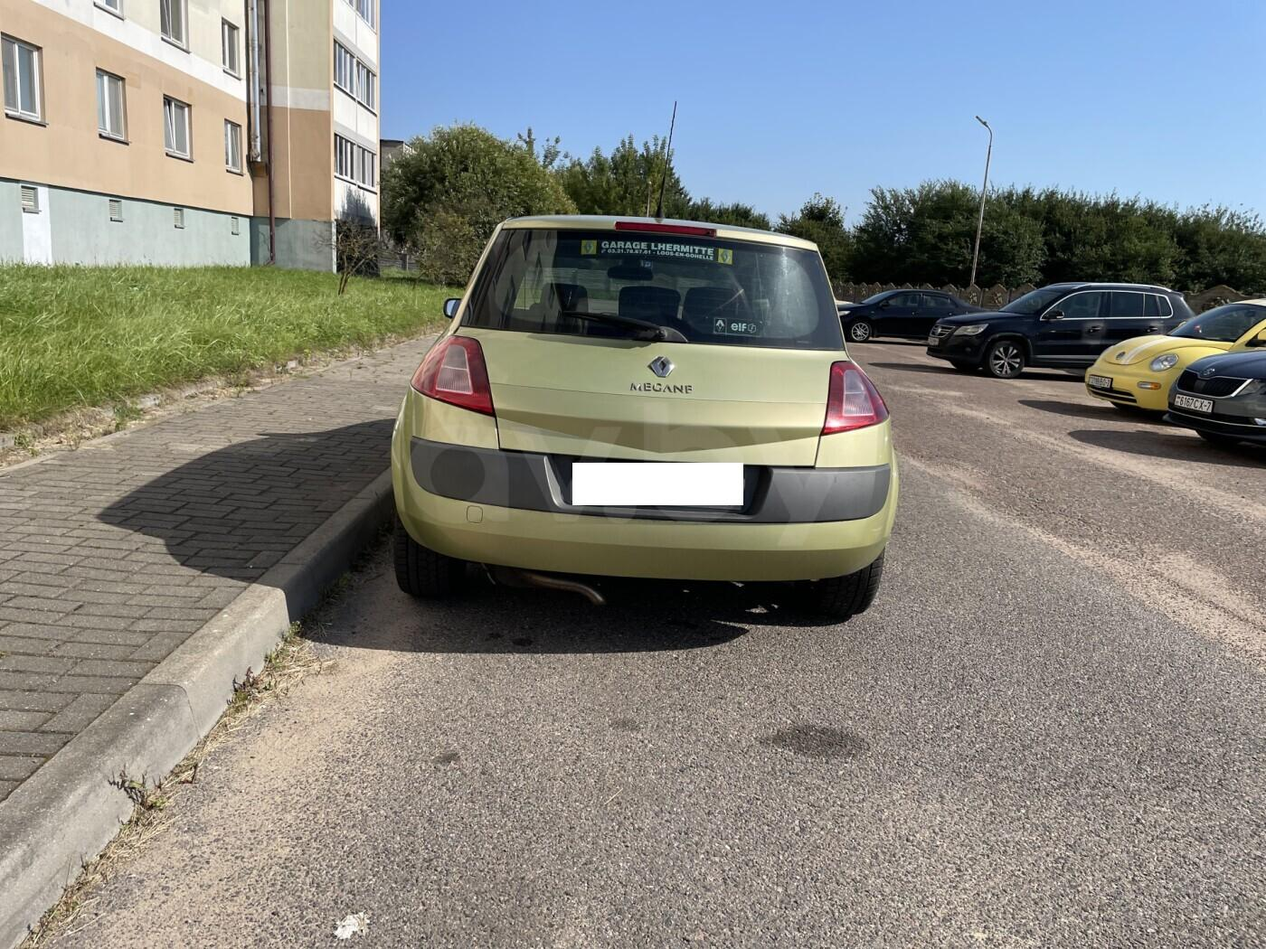Megane_2002-2006: (377, 205, 904, 644)
